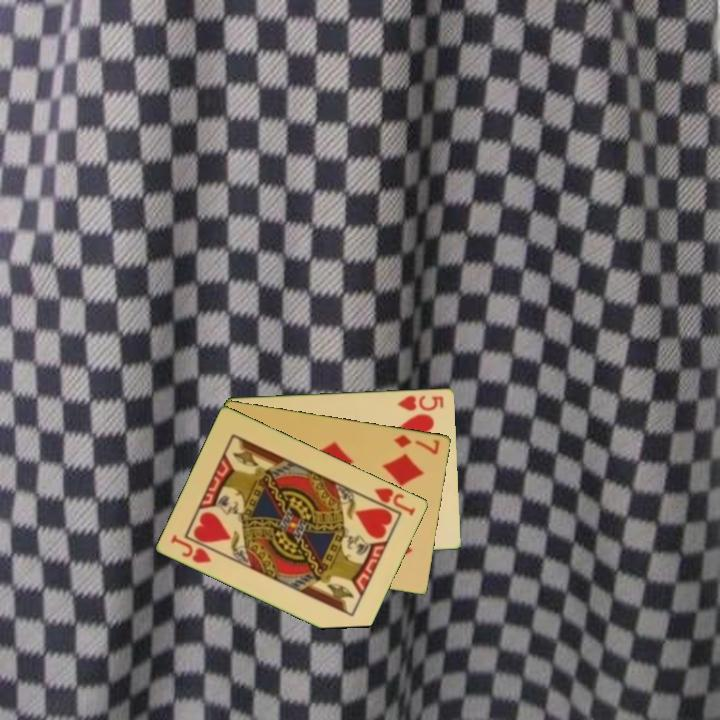5h: (394, 391, 447, 414)
7d: (391, 431, 443, 457)
Jh: (371, 484, 419, 519), (167, 531, 215, 566)
